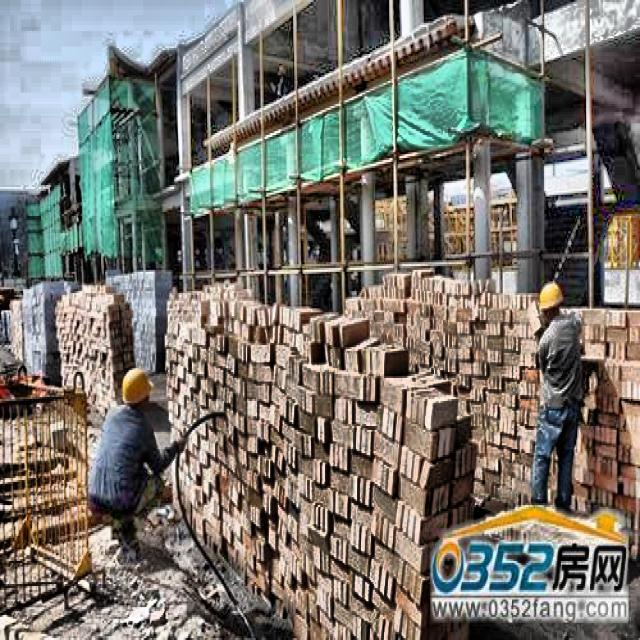helmet: (116, 366, 155, 414), (535, 278, 570, 330)
